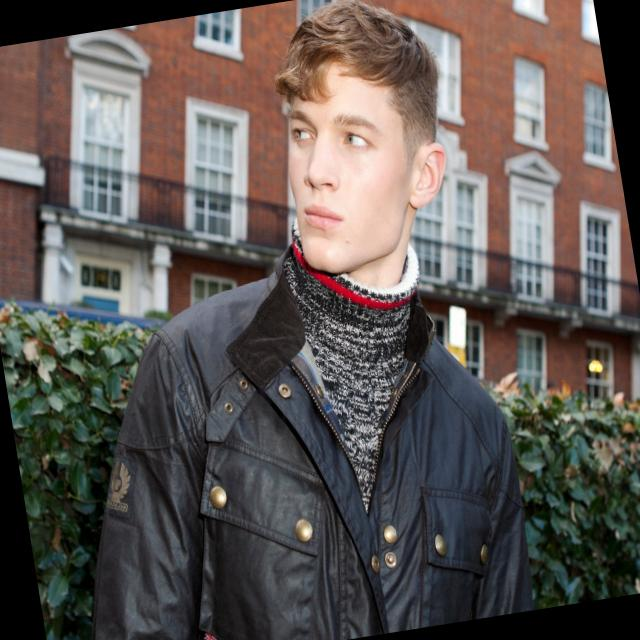Jacket: (36, 245, 574, 640)
